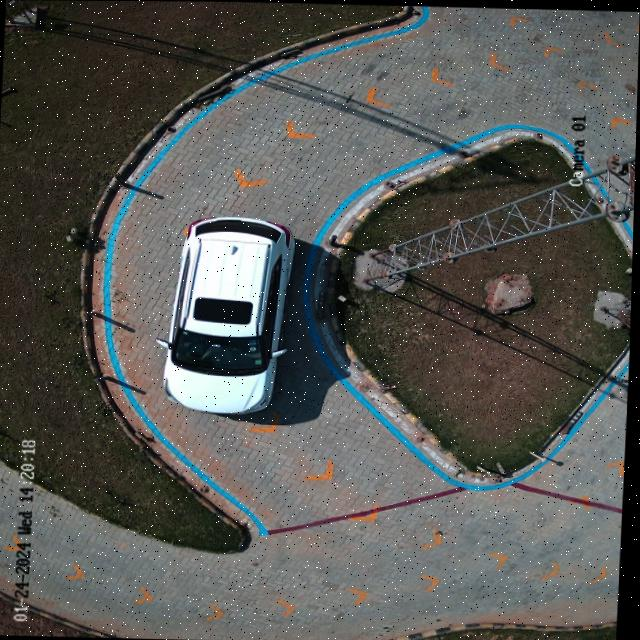car: (158, 215, 296, 413)
